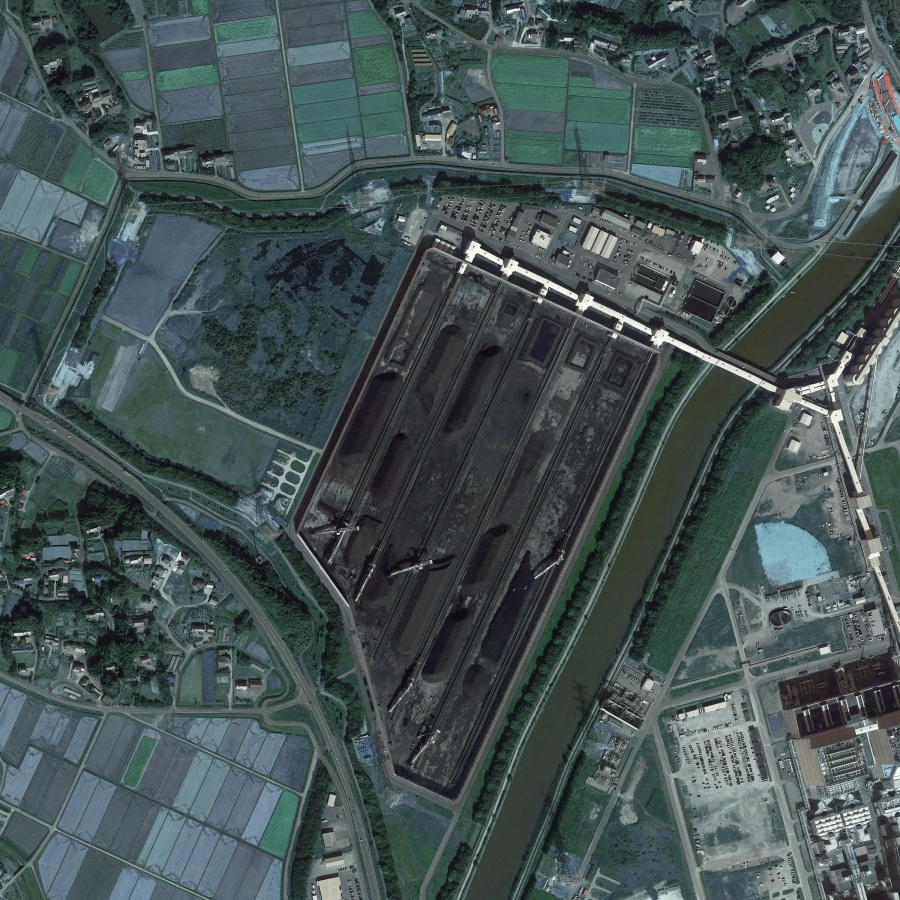PowerPlant: (297, 238, 664, 794)
